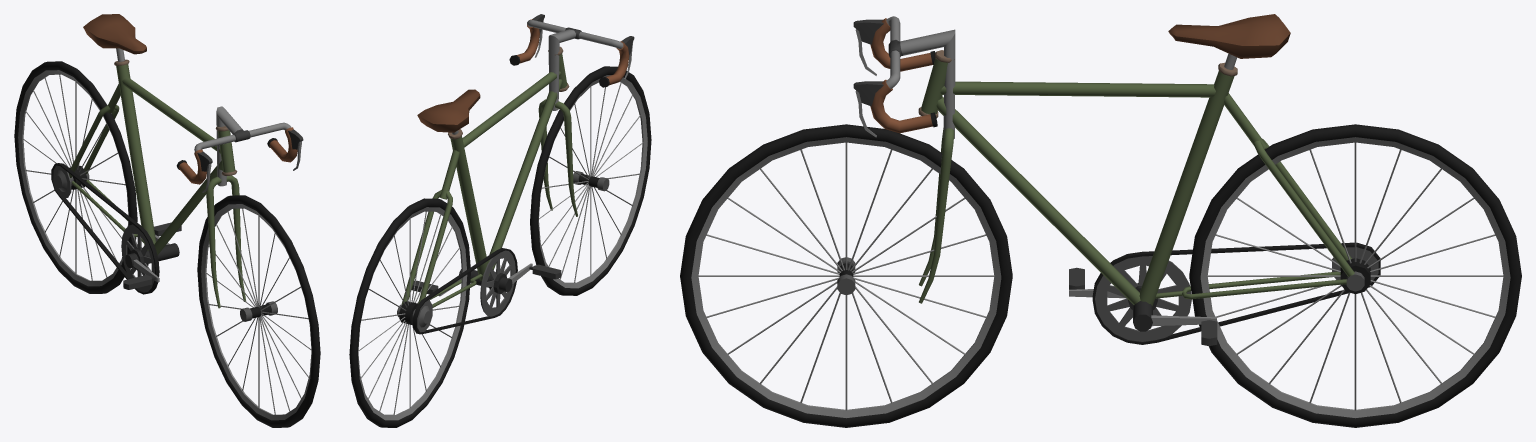
Rendered from SM_Vehicles_ Bike_01_V1.fbx.
The picture shows the model from 3 angles, left to right: view 1: azimuth 30°, elevation 25°; view 2: azimuth 150°, elevation 25°; view 3: azimuth 270°, elevation 25°; orthographic projection. The views are drawn at different scales.
Parts seen in each view (by area): view 1: SM_Vehicles_ Bike_01_V1, SM_Vehicles_ Bike_01_F, SM_Vehicles_ Bike_01_B, SM_Vehicles_ Bike_01_V1_Steering_Wheel, SM_Vehicles_ Bike_01_Pedals; view 2: SM_Vehicles_ Bike_01_V1, SM_Vehicles_ Bike_01_B, SM_Vehicles_ Bike_01_F, SM_Vehicles_ Bike_01_V1_Steering_Wheel, SM_Vehicles_ Bike_01_Pedals; view 3: SM_Vehicles_ Bike_01_F, SM_Vehicles_ Bike_01_B, SM_Vehicles_ Bike_01_V1, SM_Vehicles_ Bike_01_V1_Steering_Wheel, SM_Vehicles_ Bike_01_Pedals.
Boxes of the visible parts, bbox=[...] form: SM_Vehicles_ Bike_01_V1: bbox=[51, 14, 237, 294]; SM_Vehicles_ Bike_01_F: bbox=[197, 195, 320, 427]; SM_Vehicles_ Bike_01_B: bbox=[14, 61, 137, 293]; SM_Vehicles_ Bike_01_V1_Steering_Wheel: bbox=[176, 106, 303, 308]; SM_Vehicles_ Bike_01_Pedals: bbox=[121, 222, 181, 292]; SM_Vehicles_ Bike_01_V1: bbox=[401, 46, 569, 334]; SM_Vehicles_ Bike_01_B: bbox=[349, 198, 470, 427]; SM_Vehicles_ Bike_01_F: bbox=[530, 66, 651, 295]; SM_Vehicles_ Bike_01_V1_Steering_Wheel: bbox=[509, 14, 634, 216]; SM_Vehicles_ Bike_01_Pedals: bbox=[411, 250, 561, 316]; SM_Vehicles_ Bike_01_F: bbox=[680, 124, 1012, 427]; SM_Vehicles_ Bike_01_B: bbox=[1189, 124, 1521, 427]; SM_Vehicles_ Bike_01_V1: bbox=[918, 14, 1380, 344]; SM_Vehicles_ Bike_01_V1_Steering_Wheel: bbox=[853, 16, 955, 303]; SM_Vehicles_ Bike_01_Pedals: bbox=[1069, 256, 1217, 346].
Size of the model in its own units: 0.3736 by 0.9914 by 1.87.
